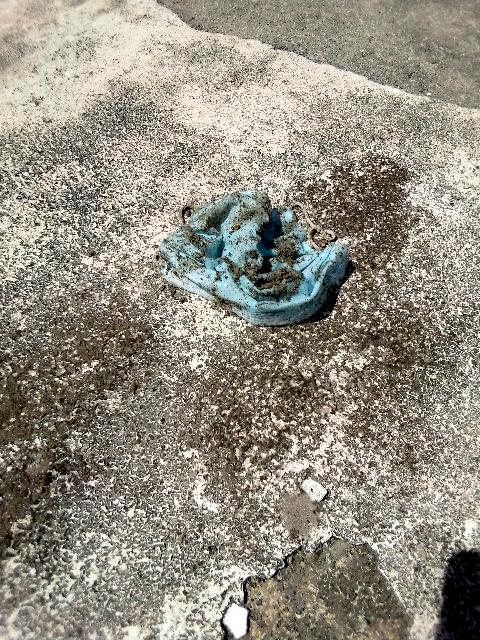mask: (194, 165, 335, 309)
